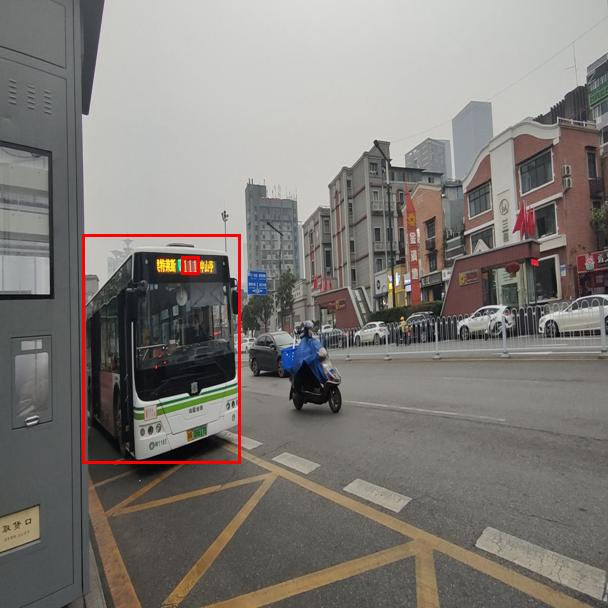bus: (82, 234, 240, 463)
screen: (181, 256, 199, 274)
